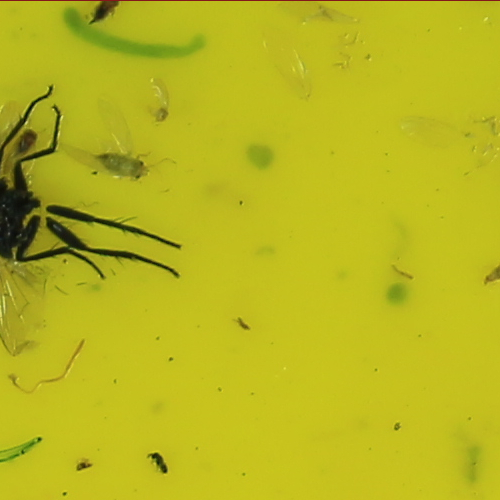psylla: (95, 151, 155, 186)
